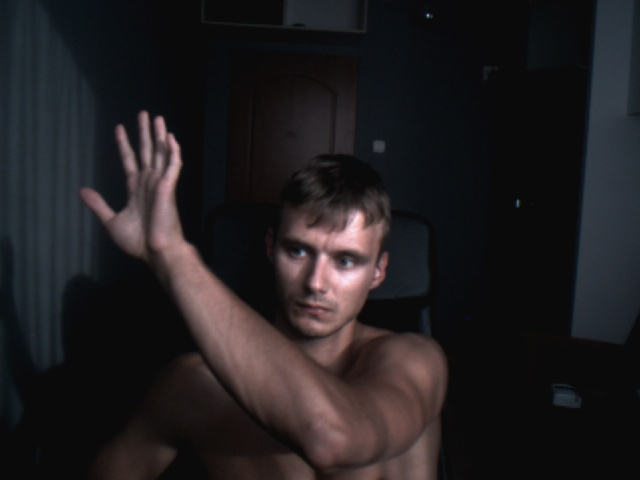open: (74, 111, 185, 256)
